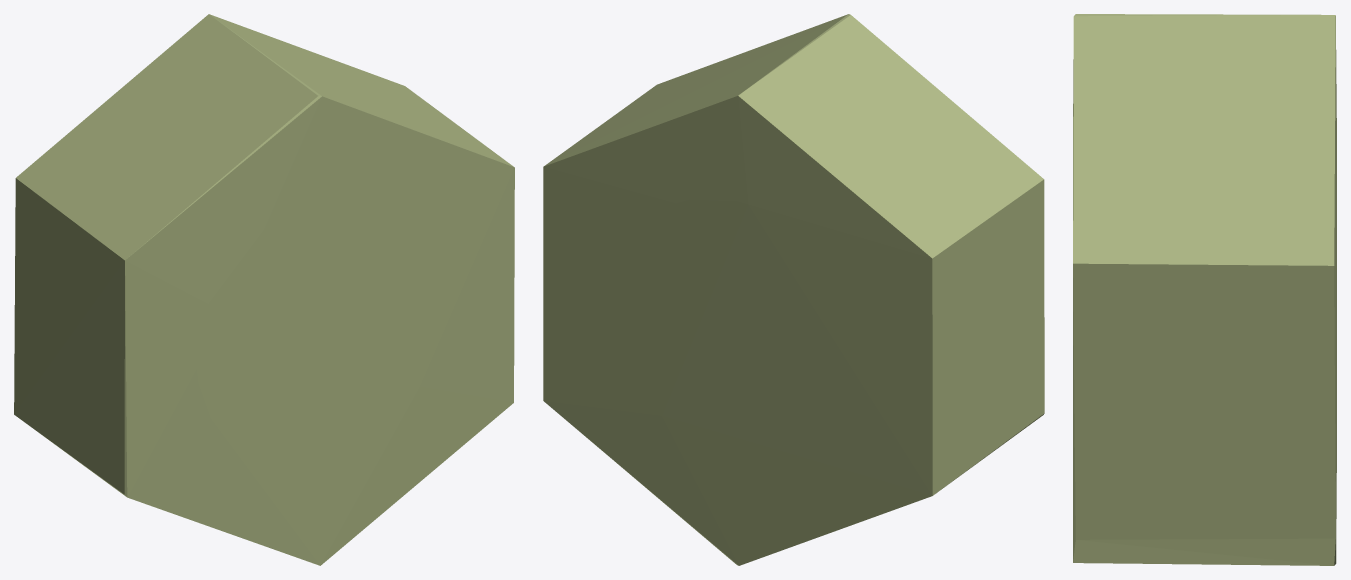
The model's file is factory_nut_m8_tight.glb.
The picture shows the model from 3 angles, left to right: view 1: azimuth 30°, elevation 25°; view 2: azimuth 150°, elevation 25°; view 3: azimuth 270°, elevation 25°; orthographic projection. The views are drawn at different scales.
Parts seen in each view (by area): view 1: geometry_0; view 2: geometry_0; view 3: geometry_0.
Boxes of the visible parts, left/top/right/bottom form: geometry_0: left=14, top=14, right=514, bottom=565; geometry_0: left=543, top=14, right=1044, bottom=565; geometry_0: left=1073, top=14, right=1336, bottom=565.
Bounding box in the file's own units: 0.4166 × 0.4791 × 0.2083.
